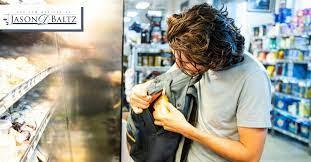shoplifting: (124, 0, 274, 162)
